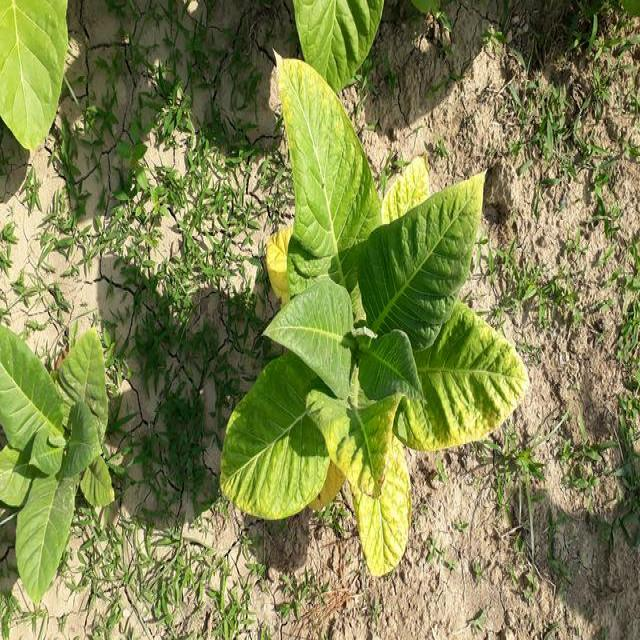crop: (210, 42, 536, 587)
